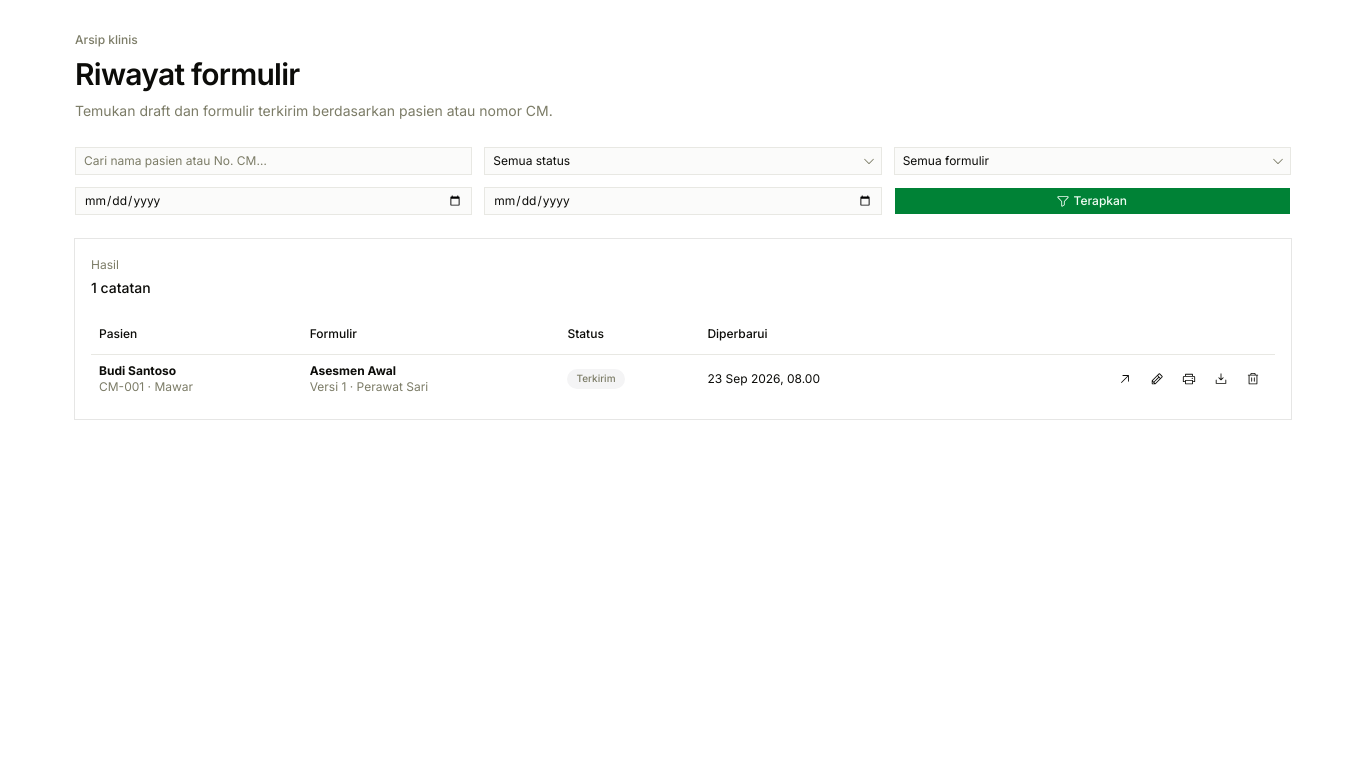
SubmissionList › asks for confirmation before deleting a submission
Click the button named "Hapus formulir Budi Santoso".
click(1253, 379)  # box [1239,365,1267,393]
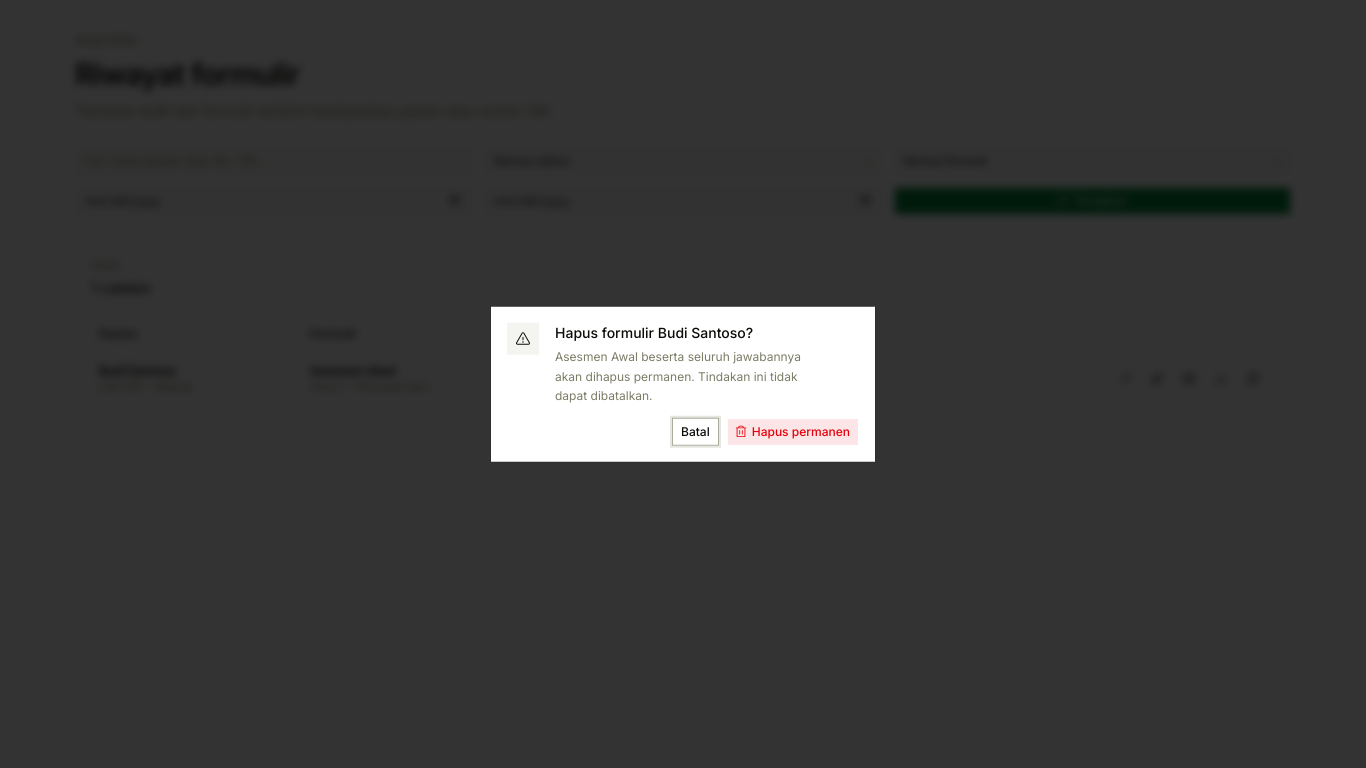
Check: the heading "Hapus formulir Budi Santoso?" is shown, box [555,323,753,343]
Check: the text "seluruh jawabannya akan dihapus permanen" is shown, box [555,349,801,403]
Check: the button "Hapus permanen" is shown
Click the button "Hapus permanen".
click(793, 431)  # box [727,417,859,445]
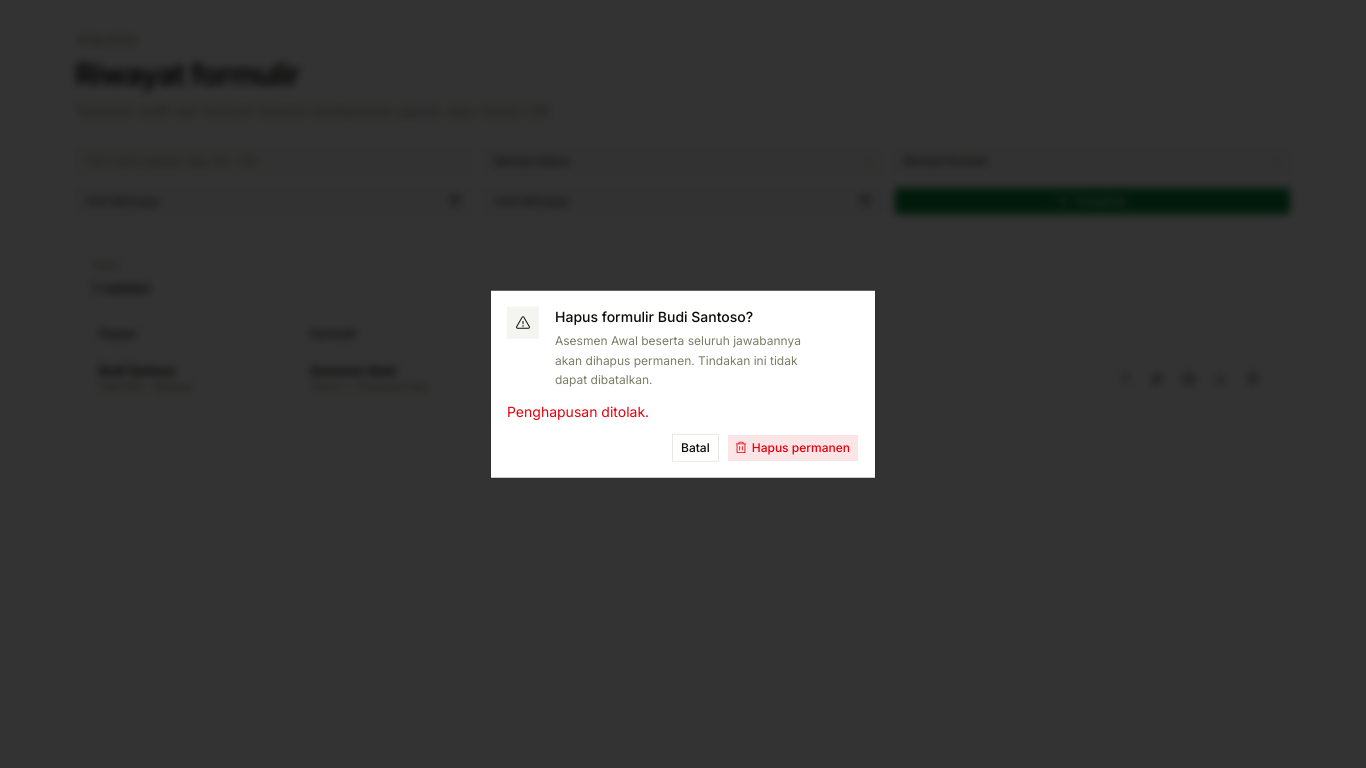
Check: the text "Penghapusan ditolak." is shown, box [507,402,649,419]
